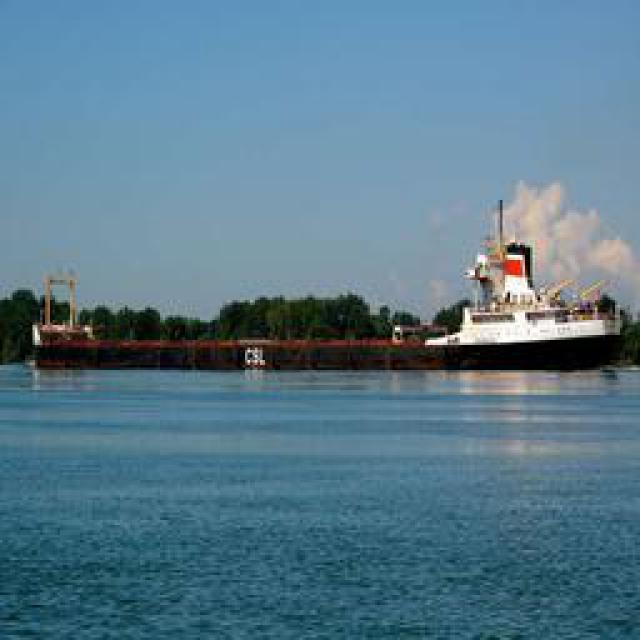Ship: (28, 201, 625, 385)
